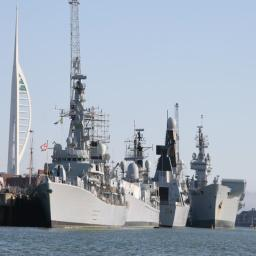Portanaves: (183, 114, 249, 232)
